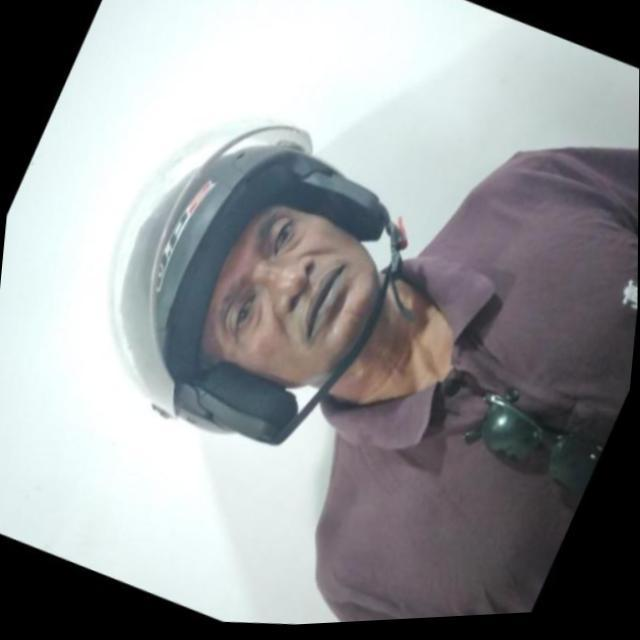with_helmet: (107, 119, 407, 437)
